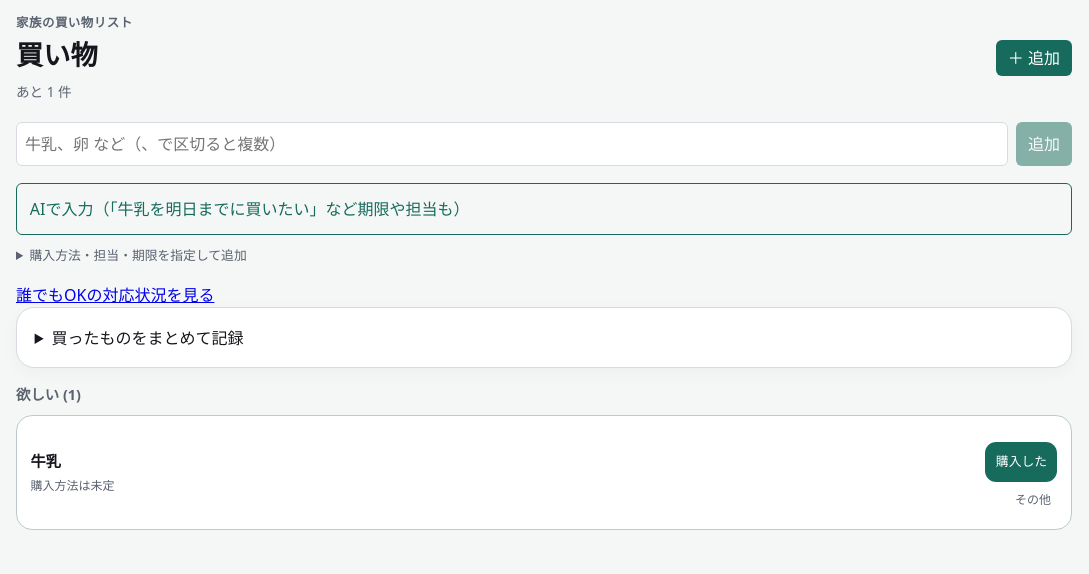
Test: Shopping quick add › adds several items from one line and skips ones already on the list
Type "卵、牛乳、パン" into the field named "買うものを追加" at x=512, y=144, box [16,122,1008,166]
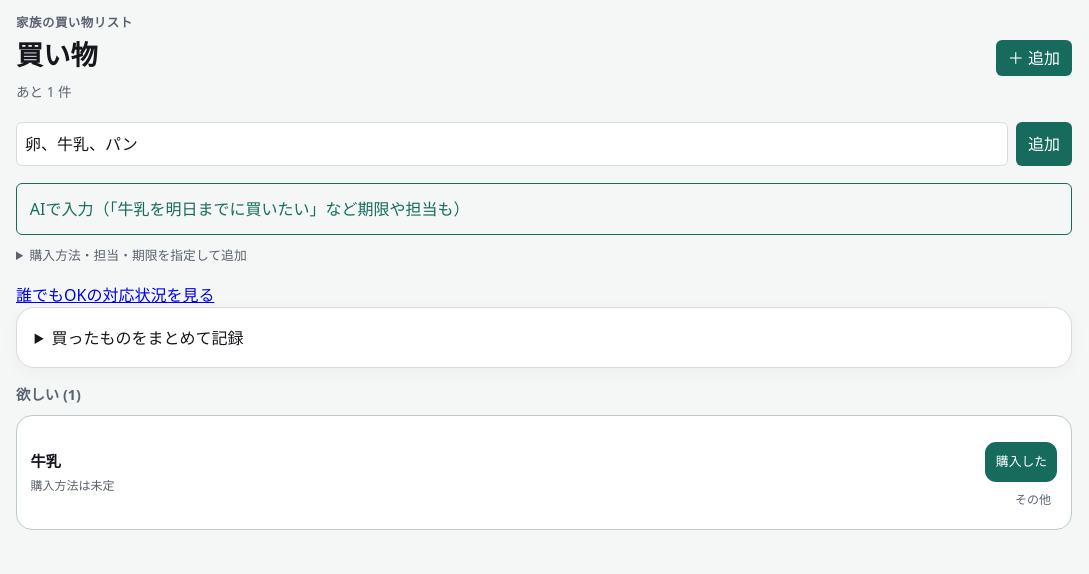
Click the button "追加" at x=1044, y=144, box [1016,122,1072,166]
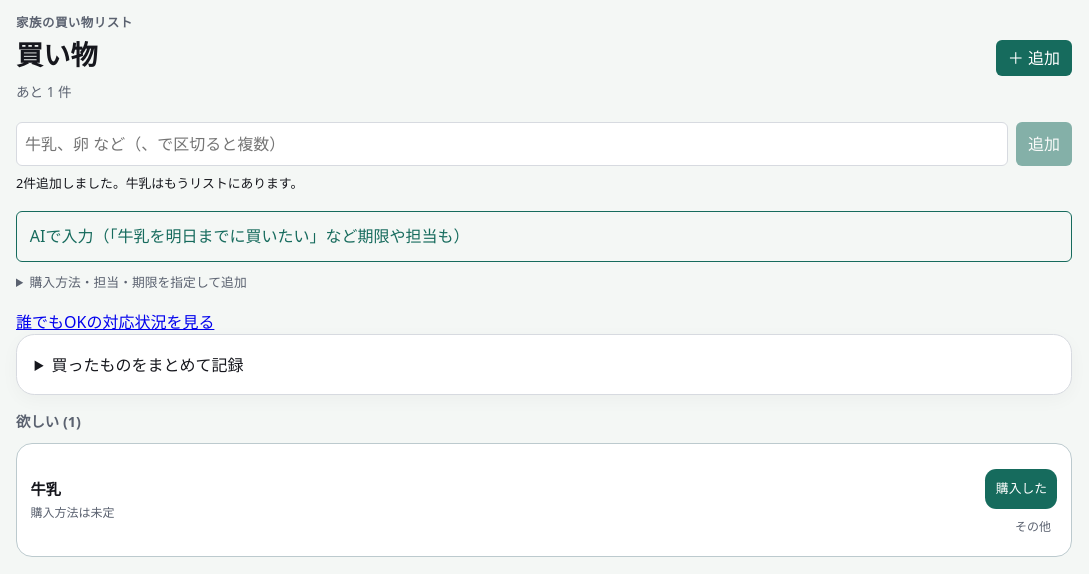
Expected: the message reads "2件追加しました。牛乳はもうリストにあります。", [16,174,303,192]
Expected: the field named "買うものを追加" is empty, [16,122,1008,166]
